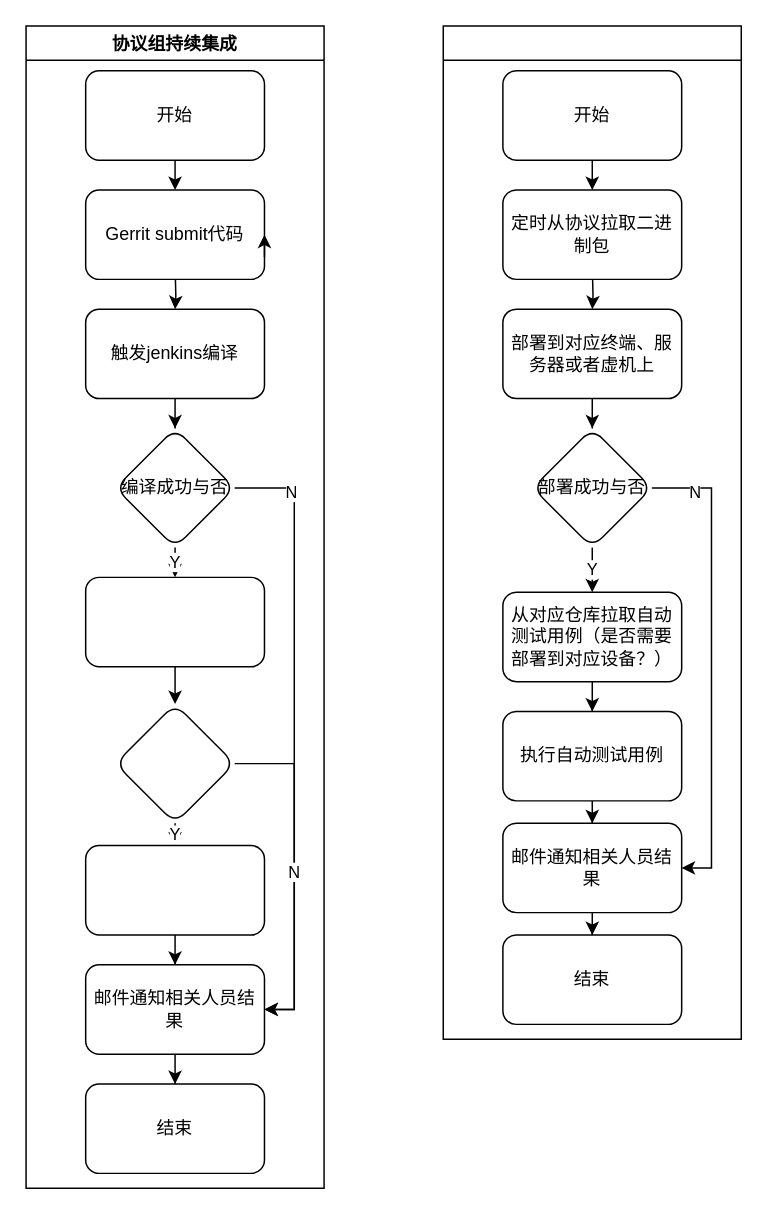
The diagram is 767 pixels wide and 1214 high, and some of its shapes have lost their labels. Each missing label, with the centre of its shape:
"本地是否需要自动测试" goes at (x=174, y=763).
"编译构建输出物上传到部门对应gitlab仓库" goes at (x=174, y=621).
"部署到对应终端或者设备，自动执行用例" goes at (x=174, y=889).
"部门-协议组" goes at (x=591, y=532).
